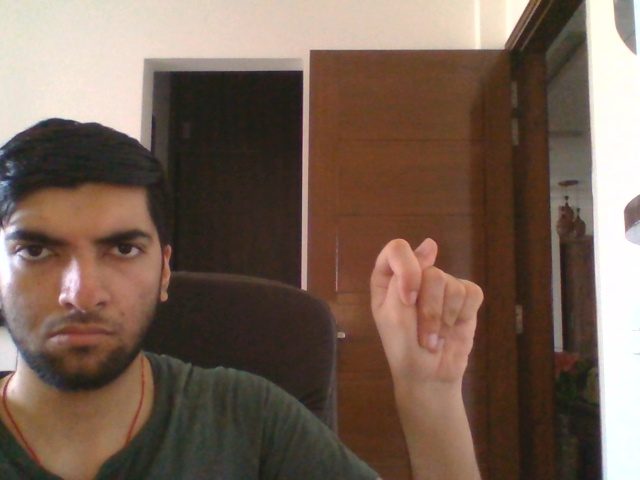LetterT: (368, 237, 485, 391)
